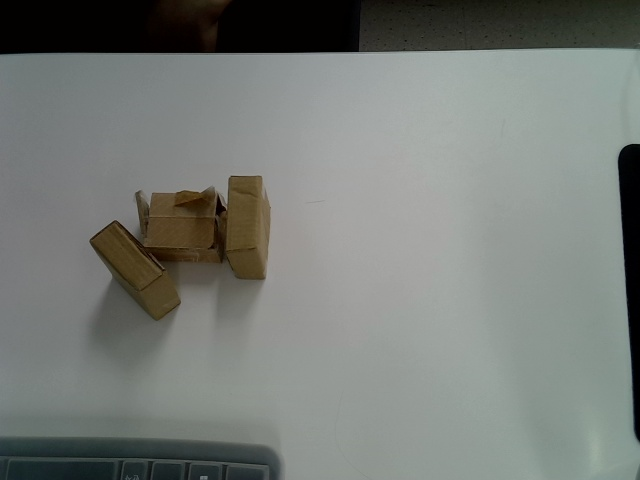defect: (136, 188, 226, 263)
normal: (90, 221, 182, 320), (224, 175, 270, 281)
